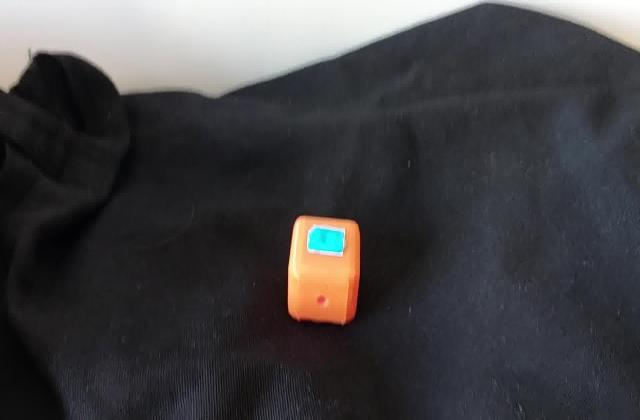blue: (314, 232, 342, 249)
cube: (284, 212, 363, 329)
